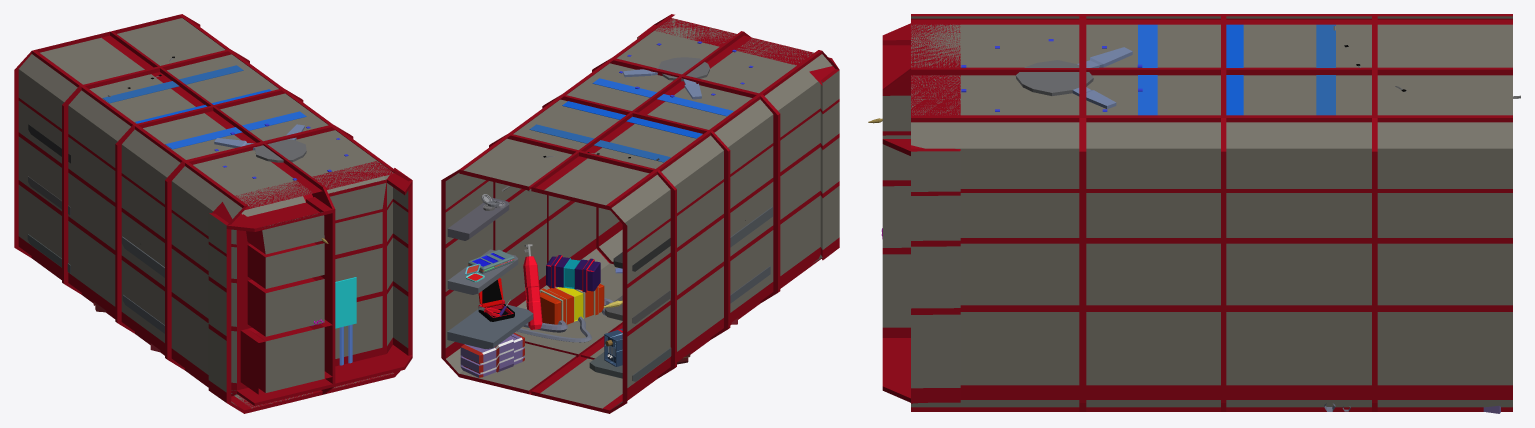
File: doc_room_280_colored_CHANGED.fbx
The picture shows the model from 3 angles, left to right: view 1: azimuth 30°, elevation 25°; view 2: azimuth 150°, elevation 25°; view 3: azimuth 270°, elevation 25°; orthographic projection. The views are drawn at different scales.
Parts seen in each view (by area): view 1: room.001, Plane.029, hollo_top, laamp3, lammp, Plane.001, lamp2, Plane.005; view 2: room.001, Plane.000, box1, box_v2_1.001, box2, hollo_top, Plane.003, Cylinder.001, Plane.002, laamp3, lammp, lamp2 (+9 smaller); view 3: room.001, hollo_top, laamp3, lammp, lamp2.
Boxes of the visible parts, bbox=[...] form: room.001: bbox=[14, 14, 412, 413]; Plane.029: bbox=[335, 277, 356, 365]; hollo_top: bbox=[214, 124, 306, 162]; laamp3: bbox=[102, 65, 243, 103]; lammp: bbox=[165, 111, 306, 149]; Plane.001: bbox=[121, 236, 164, 277]; lamp2: bbox=[135, 89, 271, 123]; Plane.005: bbox=[122, 295, 164, 333]; room.001: bbox=[441, 14, 839, 413]; Plane.000: bbox=[447, 304, 533, 348]; box1: bbox=[540, 284, 604, 324]; box_v2_1.001: bbox=[460, 333, 524, 377]; box2: bbox=[546, 255, 600, 292]; hollo_top: bbox=[623, 57, 709, 99]; Plane.003: bbox=[447, 197, 509, 240]; Cylinder.001: bbox=[523, 244, 542, 329]; Plane.002: bbox=[447, 249, 518, 294]; laamp3: bbox=[529, 124, 670, 162]; lammp: bbox=[592, 78, 733, 116]; lamp2: bbox=[562, 101, 702, 138]; room.001: bbox=[882, 14, 1512, 411]; hollo_top: bbox=[1015, 47, 1132, 108]; laamp3: bbox=[1316, 24, 1335, 115]; lammp: bbox=[1138, 24, 1157, 115]; lamp2: bbox=[1226, 24, 1243, 115].
Bounding box in the file's own units: 2094 × 2257 × 4485.
